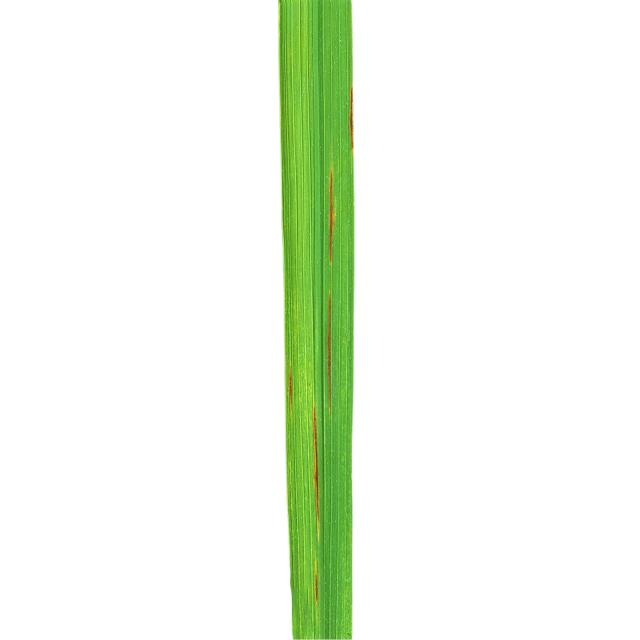Narrow brown: (259, 0, 454, 640)
